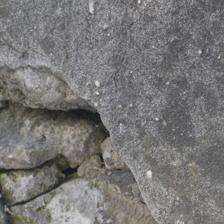Crack: (4, 96, 110, 136), (8, 176, 75, 214), (4, 149, 59, 180)
